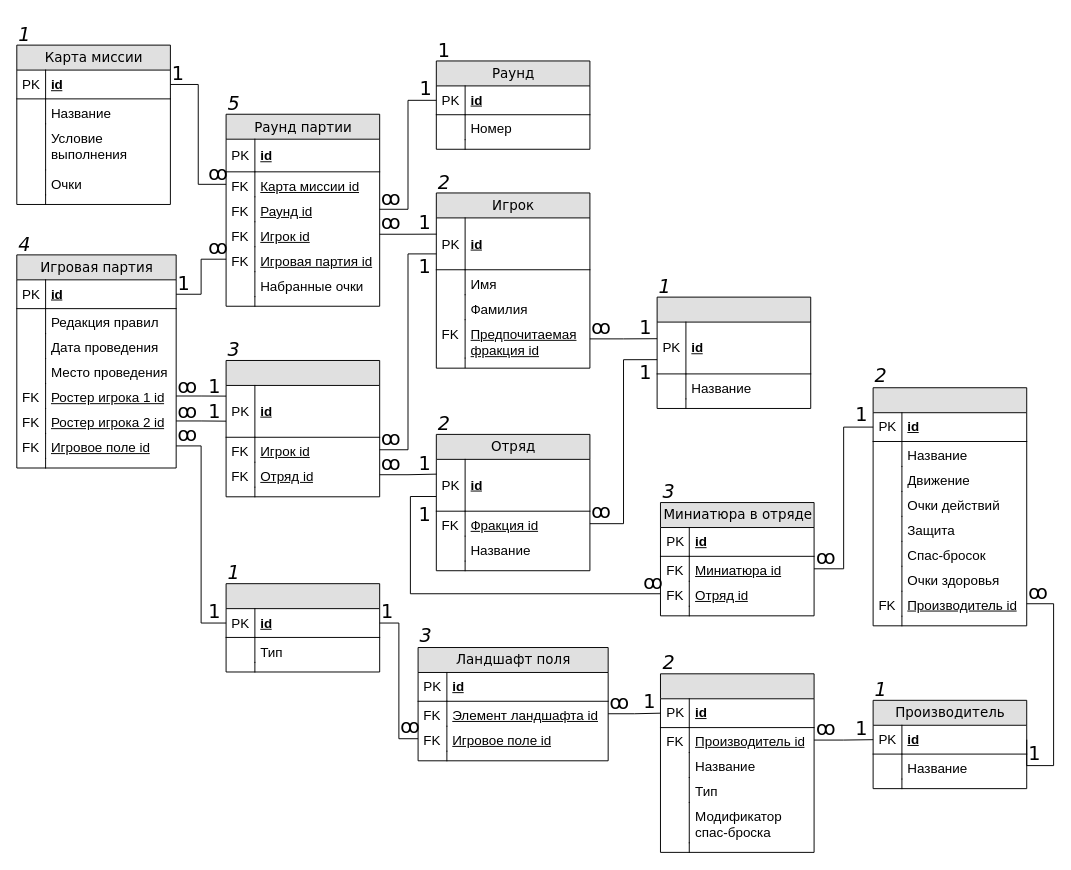
The diagram is 1071 pixels wide and 870 high, and some of its shapes have lost their labels. The shapes that lost their labels are listed below. From the top down, each one's box as (x1, y1, x2, y2) in pixels, then its label:
(656, 296, 811, 408): Фракция
(225, 360, 380, 497): Ростер игрока
(872, 387, 1027, 626): Миниатюра
(225, 583, 380, 672): Игровое поле
(660, 673, 814, 852): Элемент ландшафта
